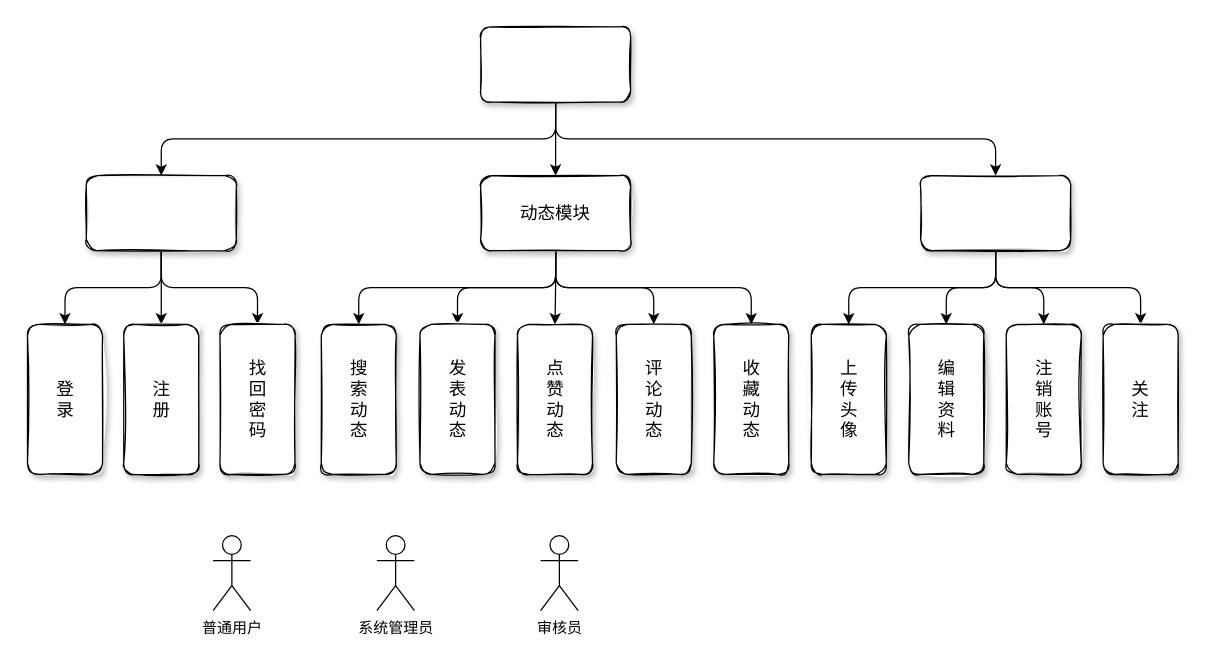
The diagram is 1209 pixels wide and 659 high, and some of its shapes have lost their labels. Each missing label, with the centre of its shape:
"个人信息模块" belongs at point 996,214.
"用户" belongs at point 556,66.
"登录注册模块" belongs at point 162,214.
